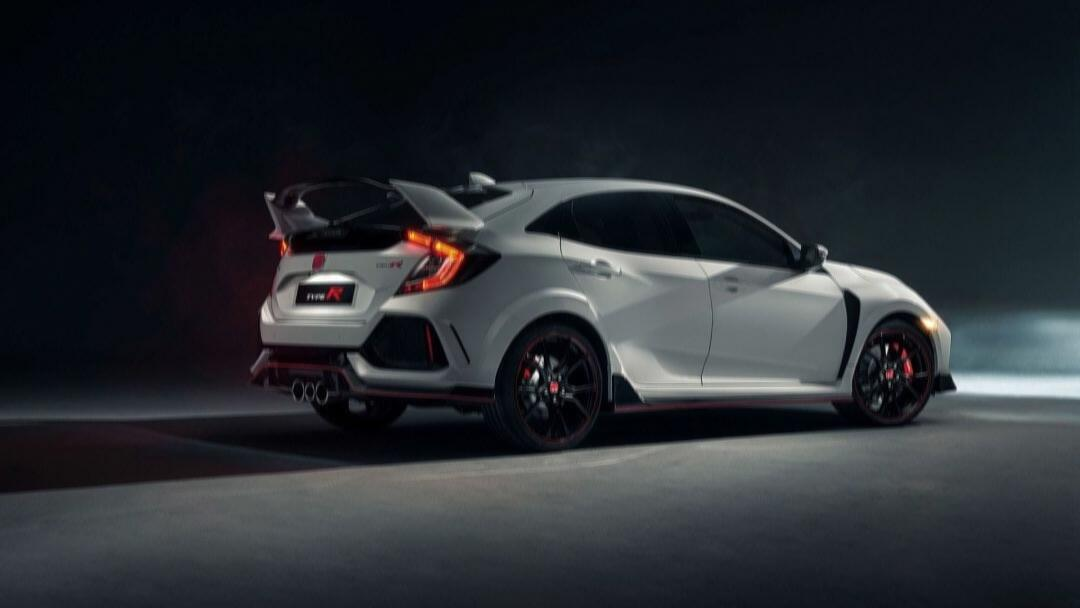Car boot: (266, 218, 439, 330)
Driver-s door - -F-R-: (714, 187, 850, 383)
Fender - -F-R-: (833, 264, 907, 399)
Fender - -R-R-: (467, 244, 618, 414)
Front bumper: (928, 329, 965, 406)
Passenger-s door - -R-R-: (556, 179, 714, 382)
Rear bumper: (246, 291, 503, 413)
Rear light - -L-: (275, 220, 298, 266)
Rear light - -R-: (400, 223, 504, 297)
Side bumper - -R-: (602, 366, 862, 416)
Side mirror - -R-: (792, 234, 835, 279)
